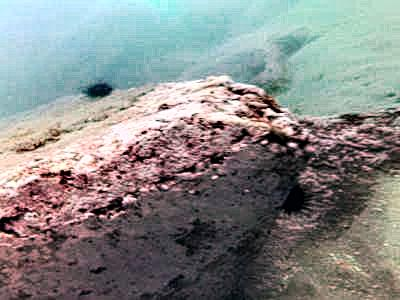urchin: (282, 181, 309, 212), (83, 81, 115, 98)
